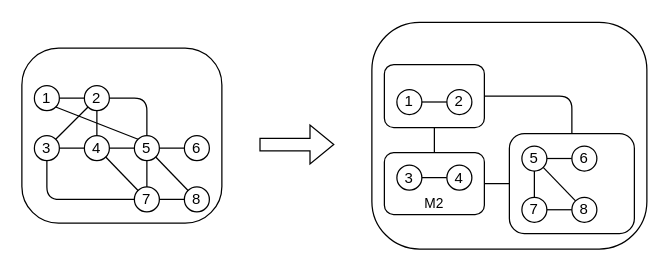
Image size: 669x271. Some labels were removed from this diagram. The box of each missing label's shape, as (x1, y1, x2, y2) in pixels:
M1: (383, 63, 484, 128)
M3: (508, 132, 634, 234)
system v4: (21, 47, 222, 223)
system v5: (371, 21, 647, 249)
